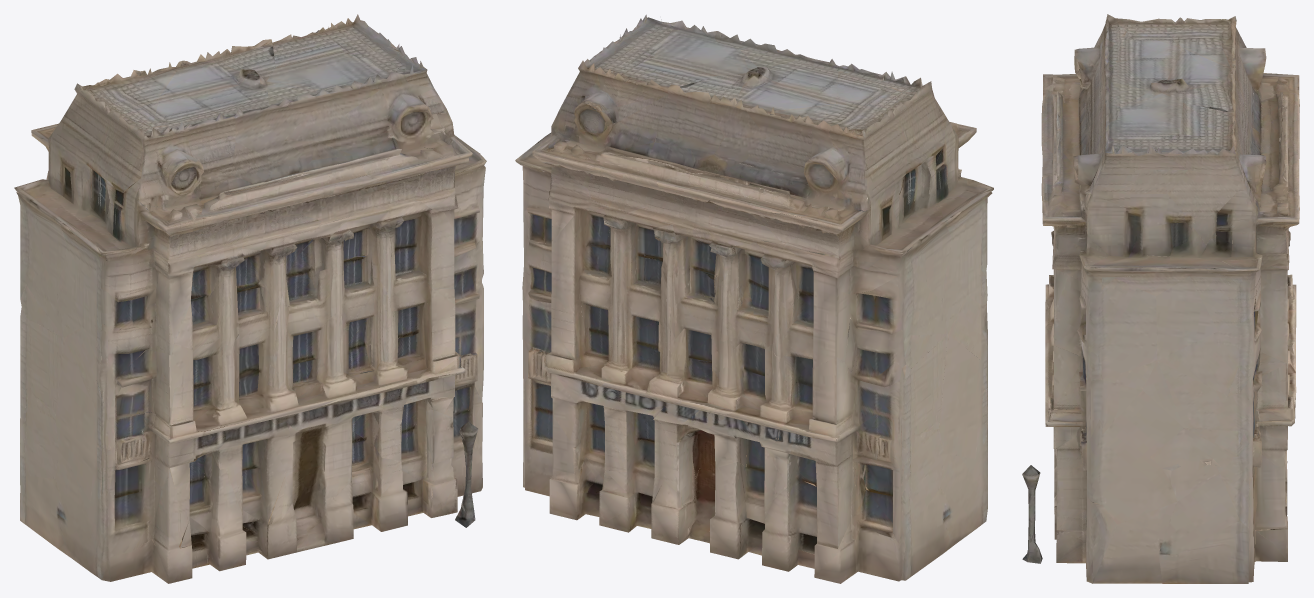
The model's file is tenement-3.glb.
3 renders of one model, left to right at view 1: azimuth 30°, elevation 25°; view 2: azimuth 150°, elevation 25°; view 3: azimuth 270°, elevation 25°, orthographic. The views are drawn at different scales.
Visible parts, largest first — view 1: Building; view 2: Building; view 3: Building.
Part boxes in pixels (x1,y1,x2,y2): Building: [14, 14, 486, 583]; Building: [515, 14, 993, 583]; Building: [1022, 14, 1299, 583].
Size of the model in its own units: 1.87 by 2 by 1.21.
Materials: 1 (1 with a texture image).
